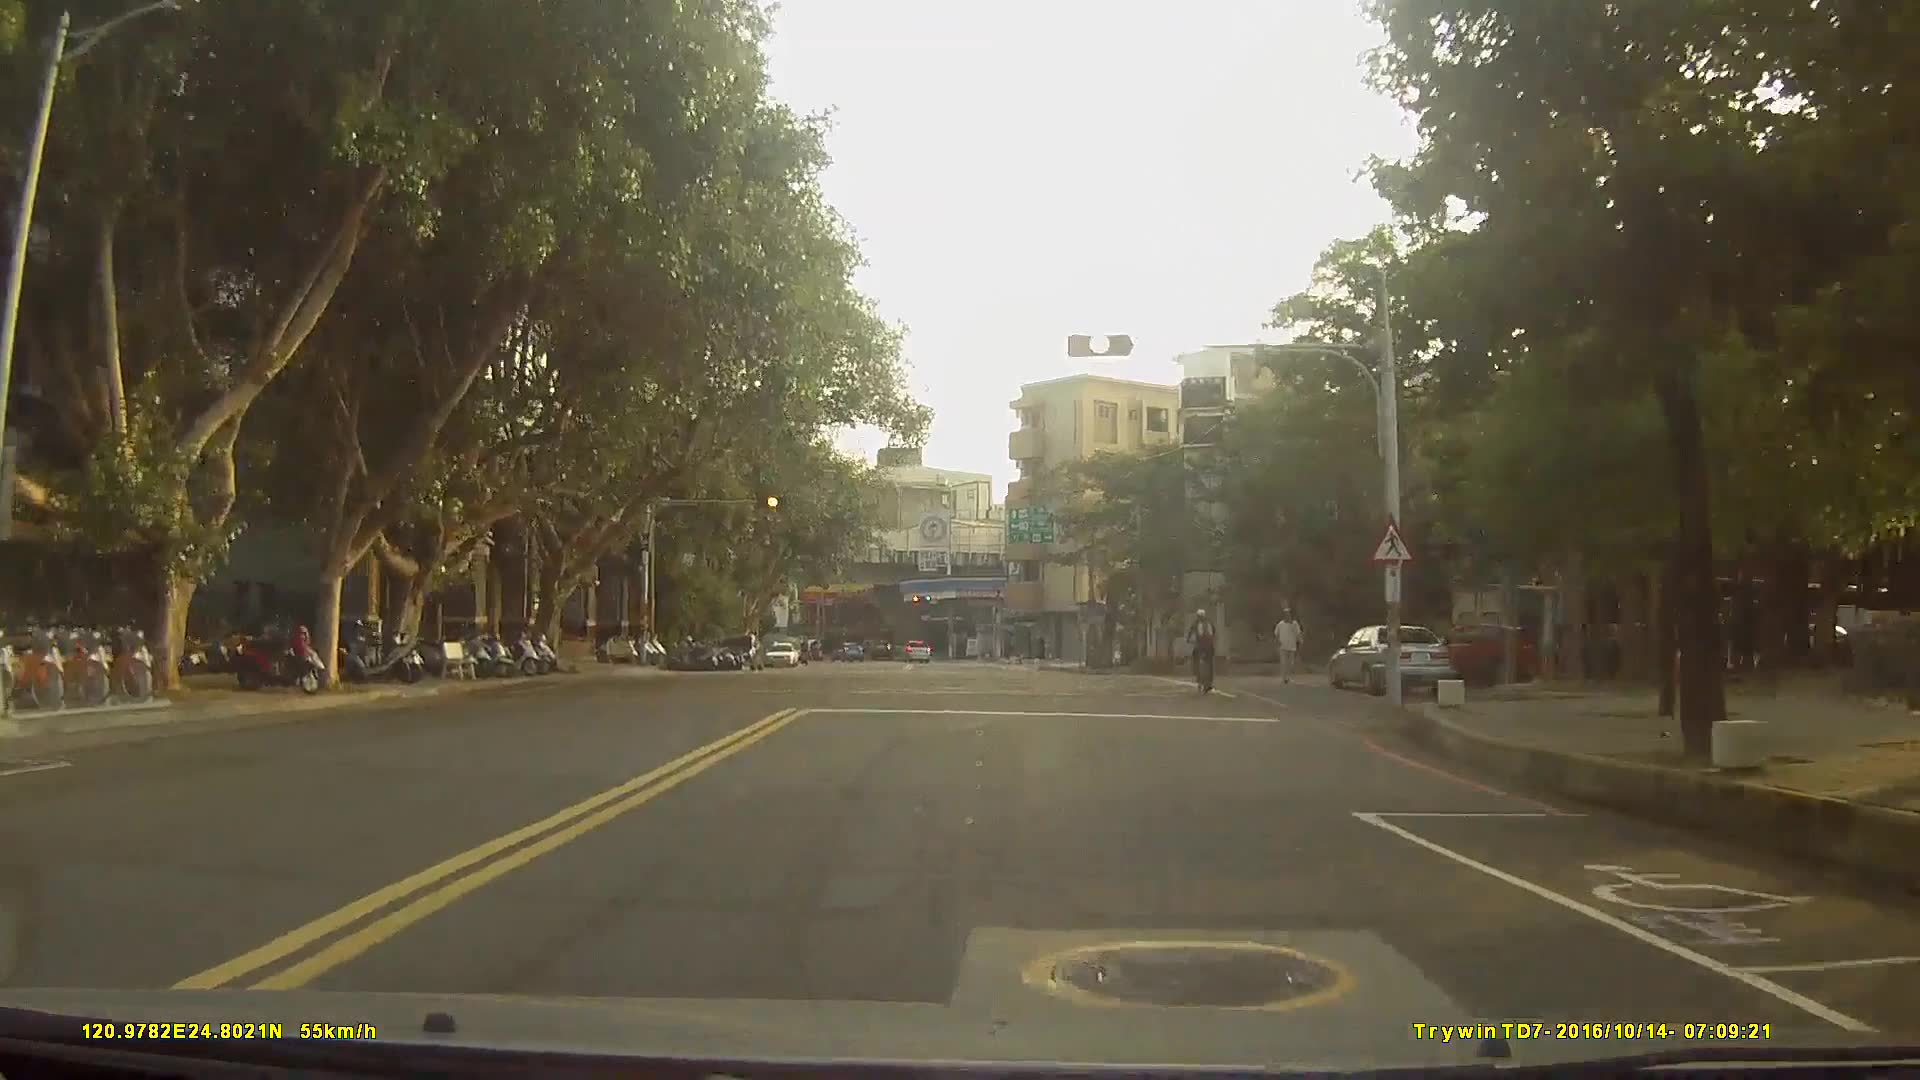pedestrian: (1272, 604, 1306, 696)
rider: (1188, 608, 1219, 692)
vehicle: (1328, 623, 1455, 696), (1414, 621, 1534, 687), (716, 630, 764, 670), (764, 639, 798, 667), (896, 637, 929, 662)
